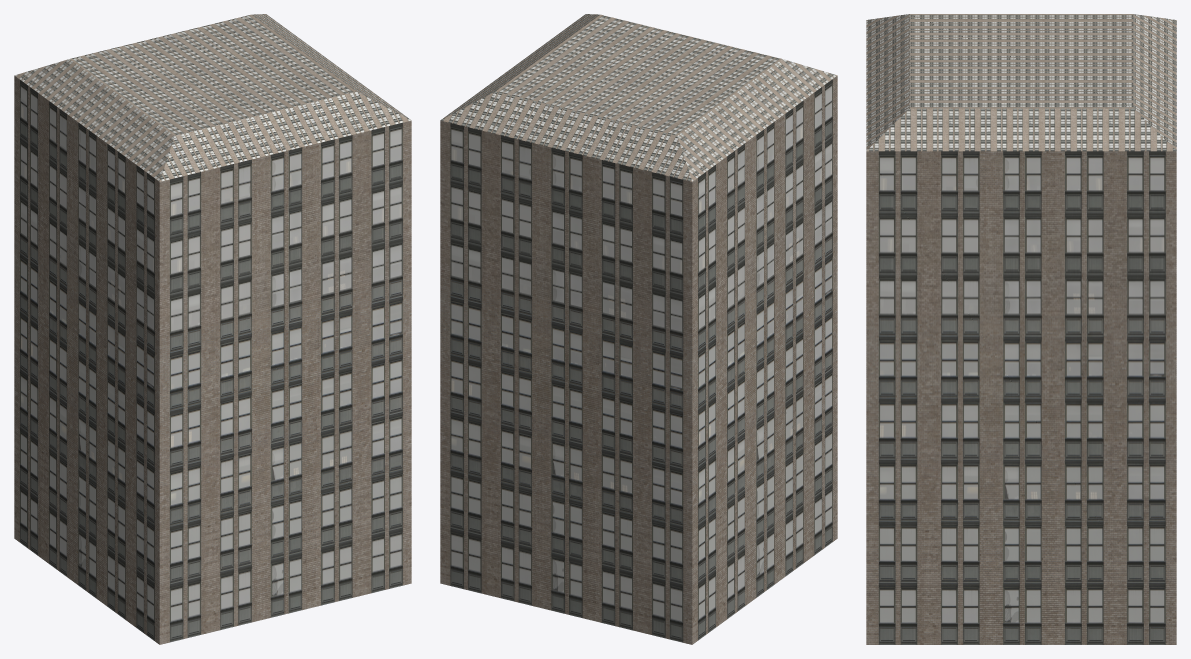
Rendered from binasdasdhhh.fbx.
3 views of the same model, side by side, from view 1: azimuth 30°, elevation 25°; view 2: azimuth 150°, elevation 25°; view 3: azimuth 270°, elevation 25° (orthographic). The views are drawn at different scales.
Visible parts, largest first — view 1: Cube; view 2: Cube; view 3: Cube.
Boxes of the visible parts, x1,y1,x2,y2 form: Cube: (14, 14, 411, 644); Cube: (440, 14, 837, 644); Cube: (866, 14, 1176, 644).
Bounding box in the file's own units: 200 × 368 × 200.
Materials: 1 (1 with a texture image).
